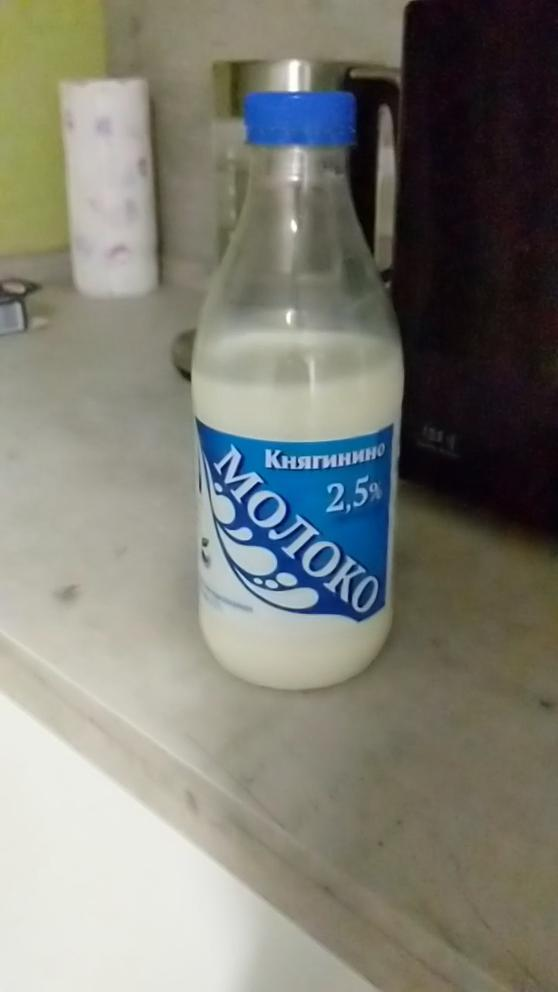milk: (164, 68, 452, 698)
